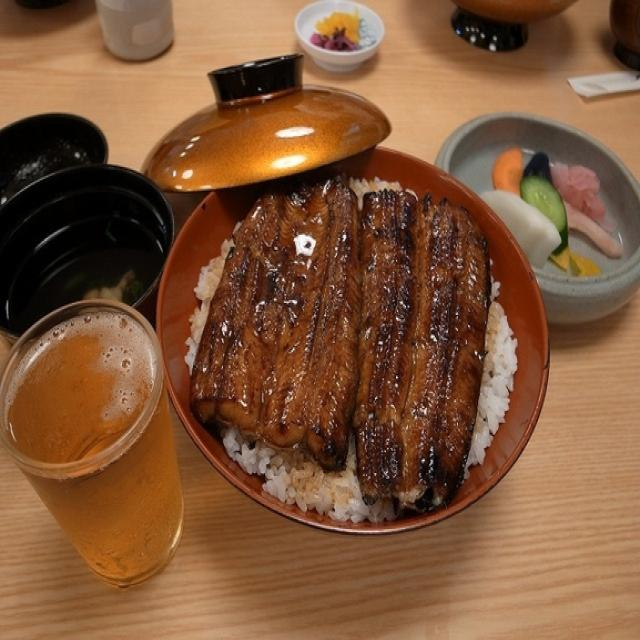熟制海鲜: (175, 143, 538, 531)
